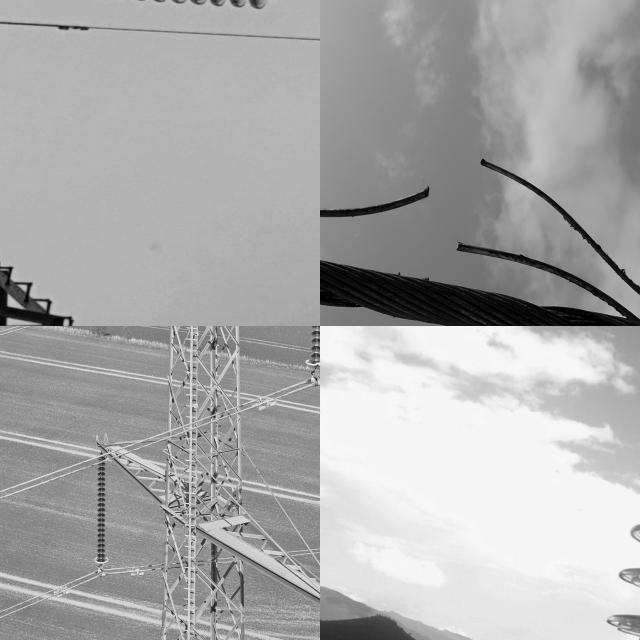杆塔: (0, 0, 98, 326), (163, 326, 259, 640)
正常绝缘子: (554, 422, 640, 640), (94, 452, 113, 572), (94, 0, 272, 10)
电缆破损: (320, 147, 640, 326)
